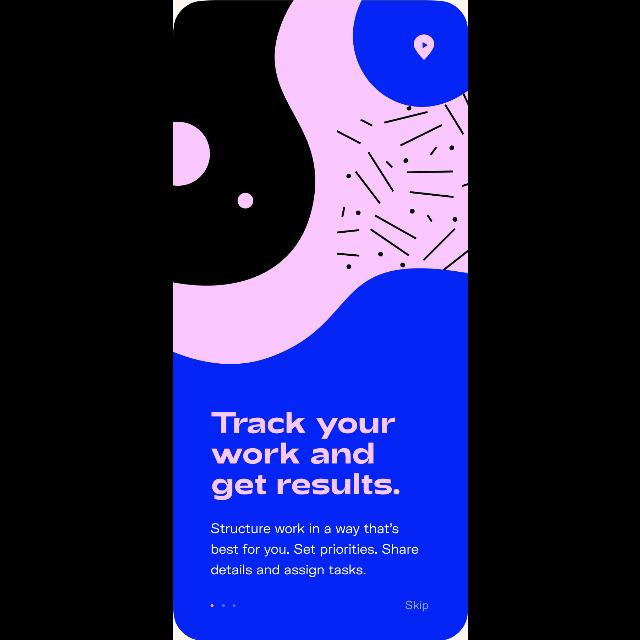backgroundimage: (173, 1, 467, 640)
pageindicator: (210, 604, 234, 606)
text: (210, 412, 400, 501), (210, 522, 418, 578), (404, 600, 428, 612)
